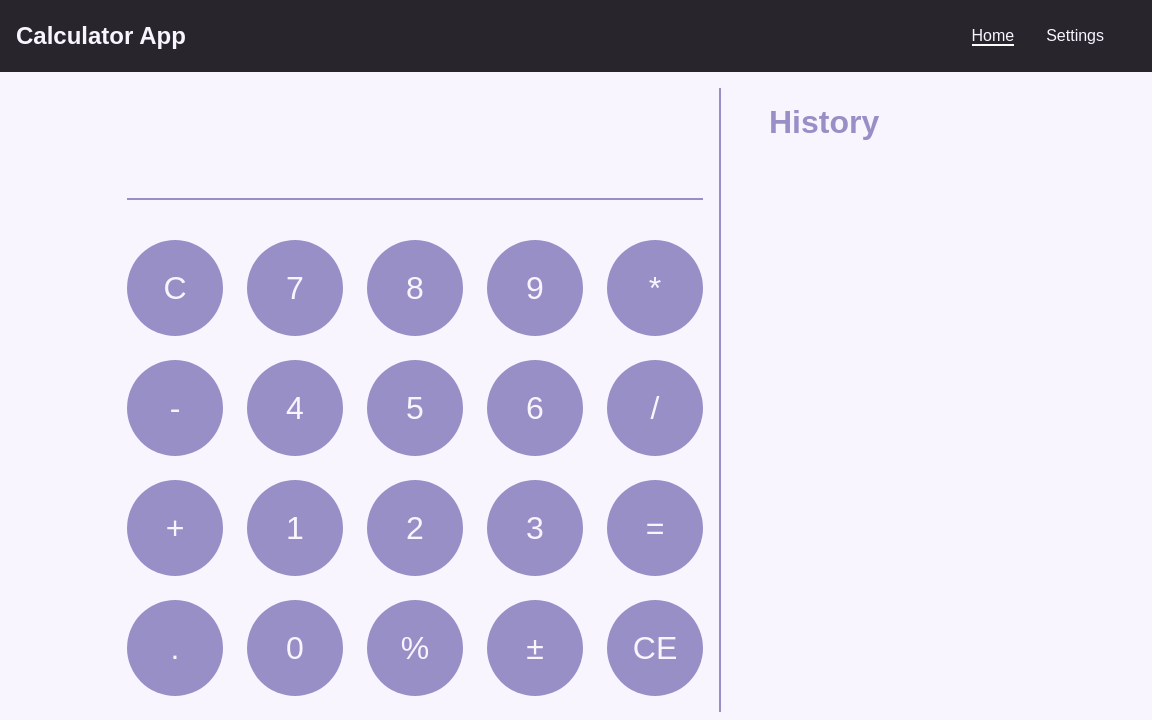
Test: Home page › should have display
The image size is (1152, 720).
Click the button "4": click(295, 408) [247,360,343,456]
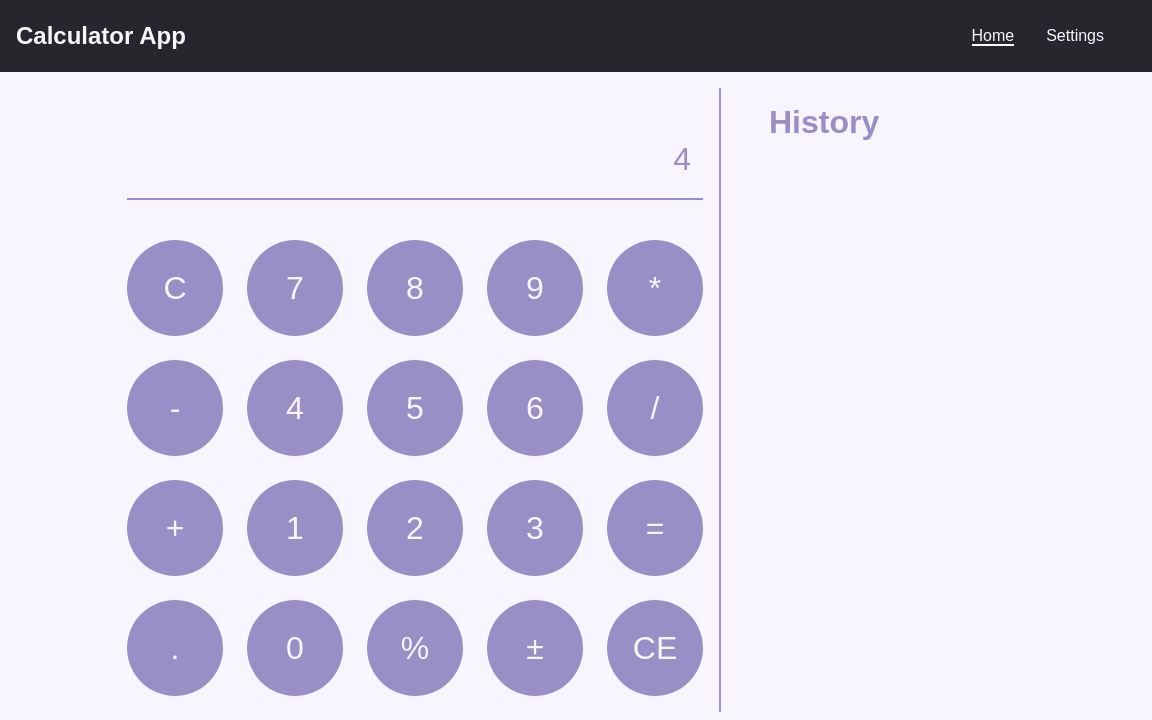
Click the button "2": click(415, 528) [367,480,463,576]
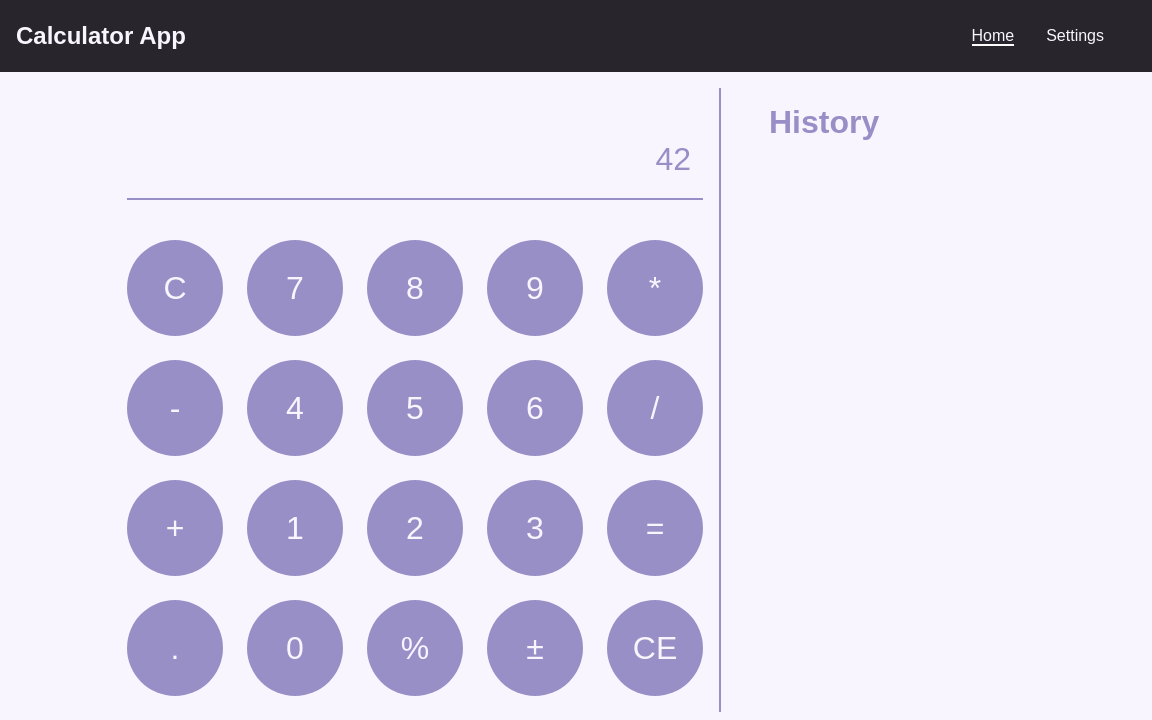
Result: the text "42" is shown at [655,141,691,178]
